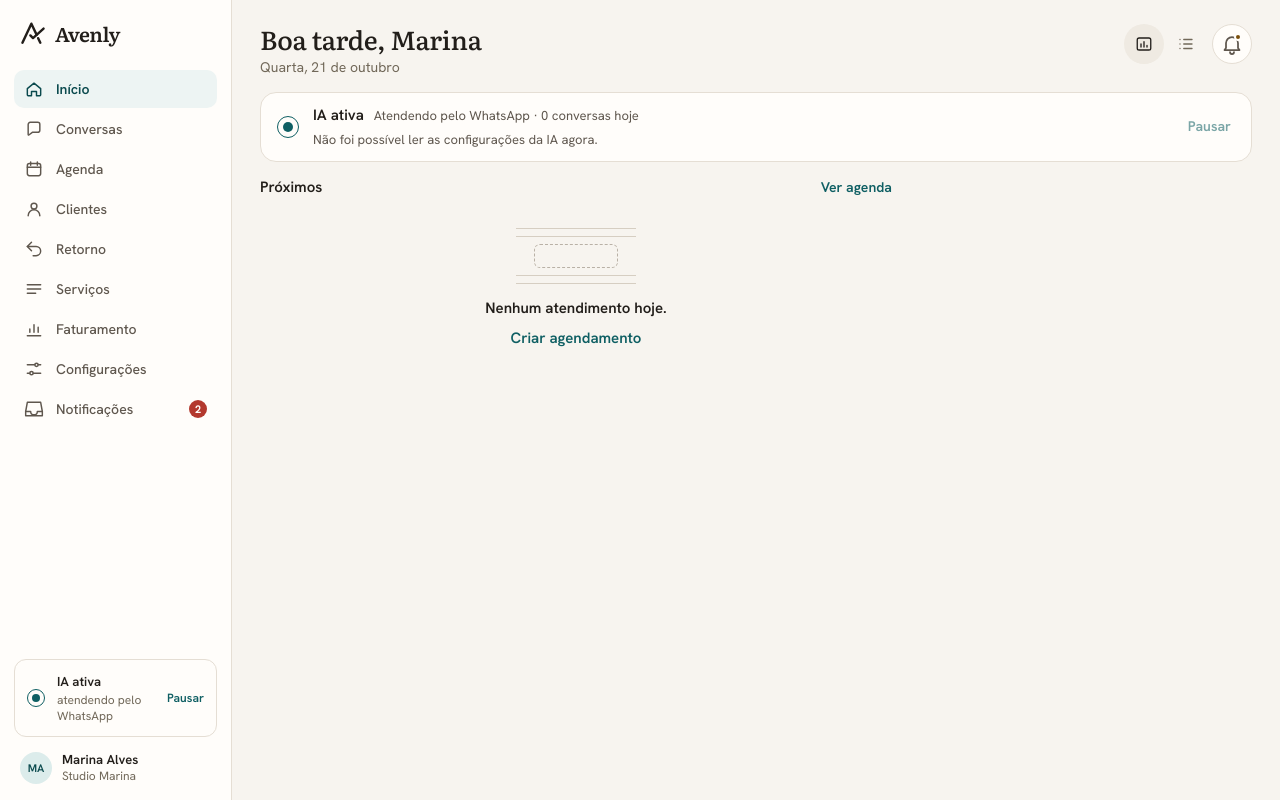
Goal096 prova 4: a gaveta a partir de 1024 px › com a consulta verdadeira, o sino é botão e abre o dialog sem navegar
Click the button named "Notificações, 2 não lidas" at (1232, 44), box x1=1212 y1=24 x2=1252 y2=64
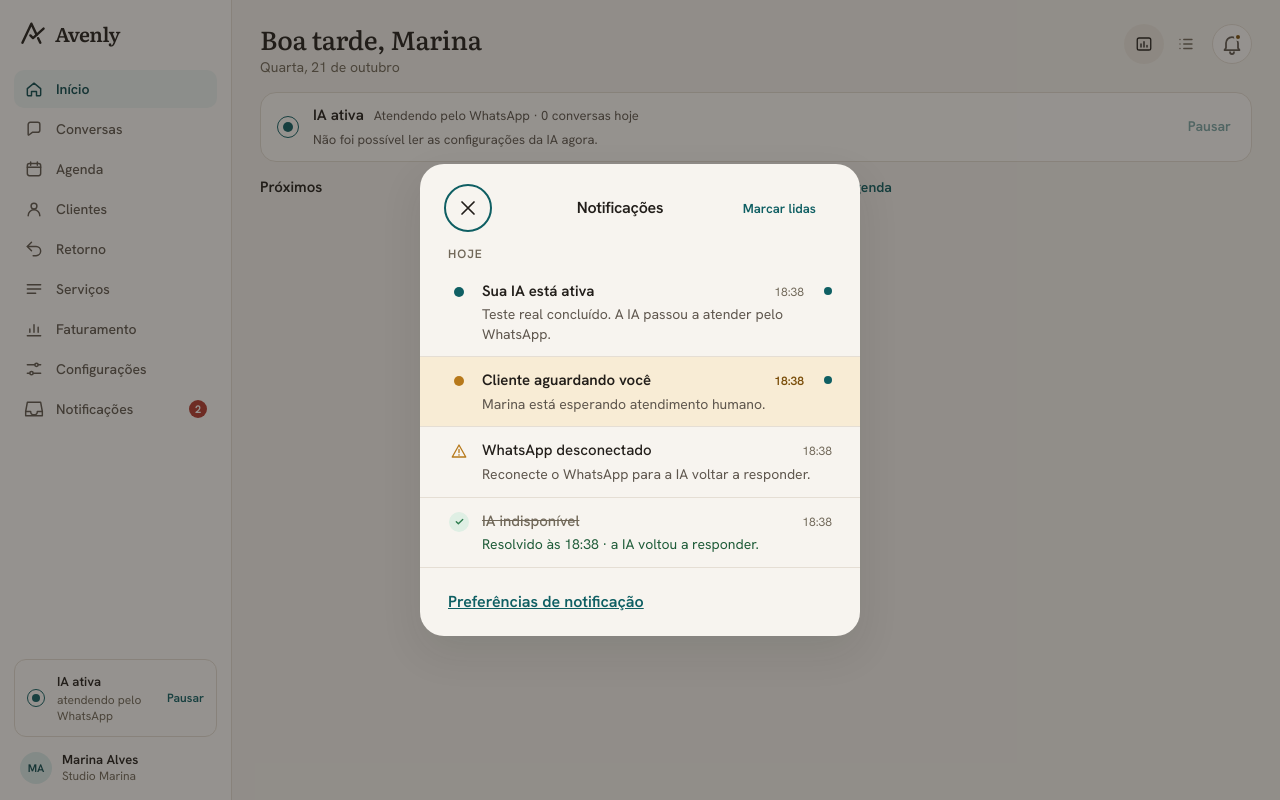
Check: the button named "Fechar" is shown, box x1=448 y1=188 x2=488 y2=228
